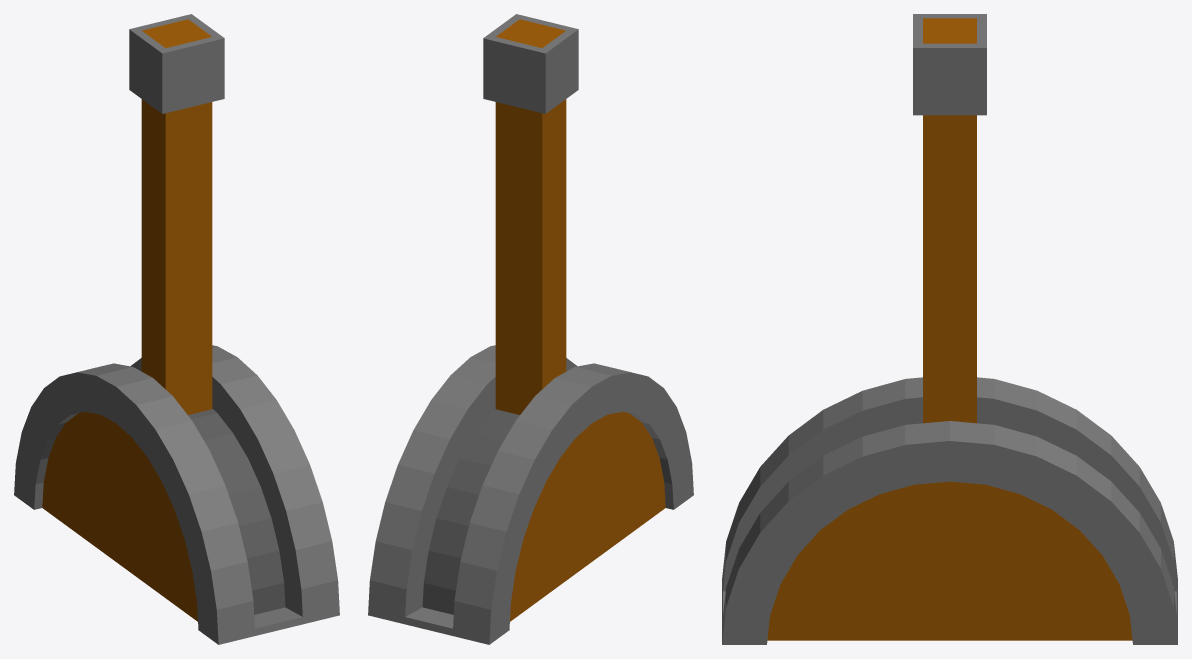
Rendered from Tuas 1.fbx.
3 views of the same model, side by side, from view 1: azimuth 30°, elevation 25°; view 2: azimuth 150°, elevation 25°; view 3: azimuth 270°, elevation 25° (orthographic). The views are drawn at different scales.
Visible parts, largest first — view 1: Cylinder.001, Cube.002; view 2: Cylinder.001, Cube.002; view 3: Cylinder.001, Cube.002.
Boxes of the visible parts, x1=… form: Cylinder.001: x1=14, y1=345, x2=339, y2=644; Cube.002: x1=129, y1=14, x2=224, y2=414; Cylinder.001: x1=368, y1=345, x2=693, y2=644; Cube.002: x1=483, y1=14, x2=578, y2=414; Cylinder.001: x1=722, y1=377, x2=1177, y2=644; Cube.002: x1=913, y1=14, x2=986, y2=423.
Size of the model in its own units: 29.57 by 121 by 86.36.
